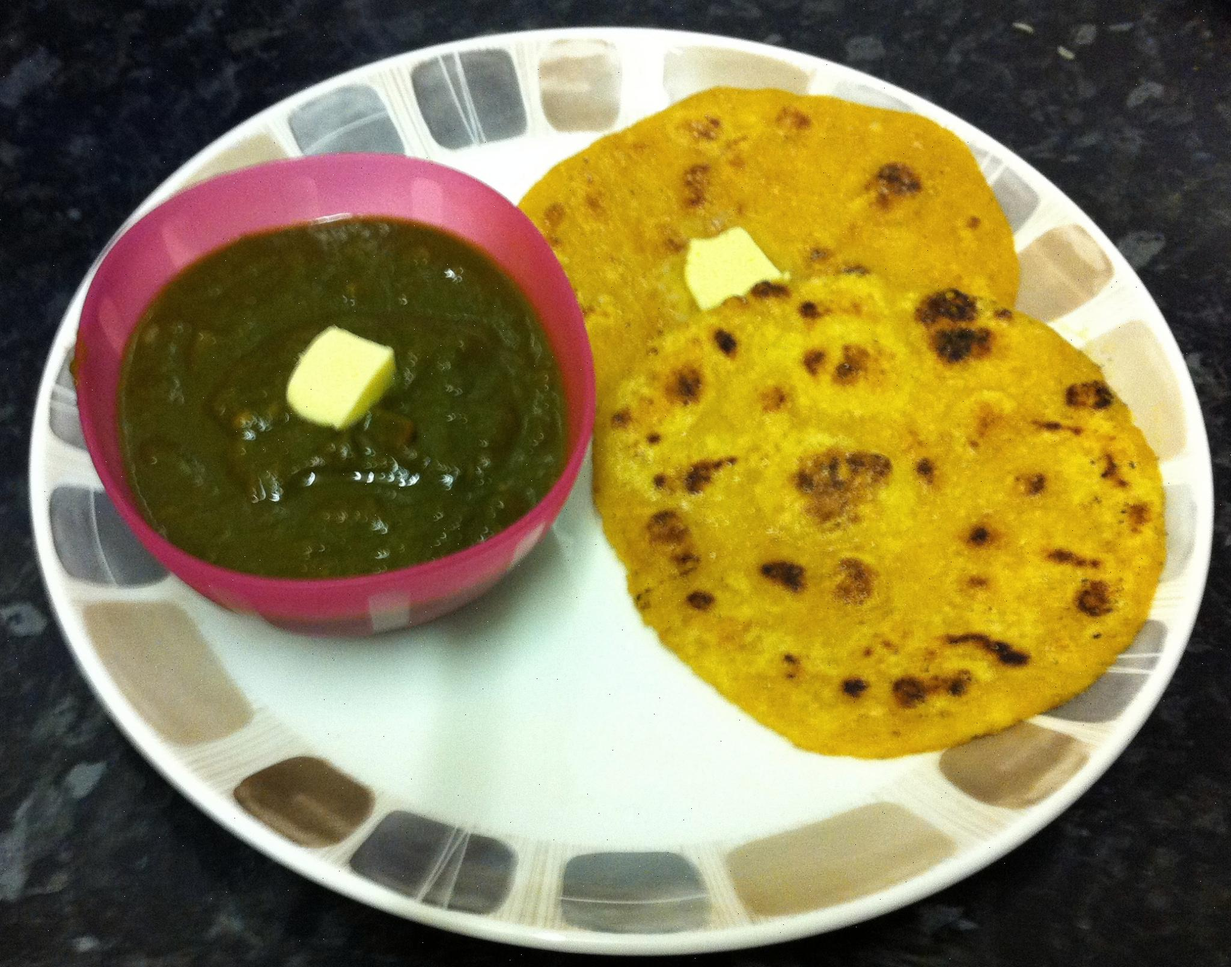saag: (127, 216, 573, 580)
